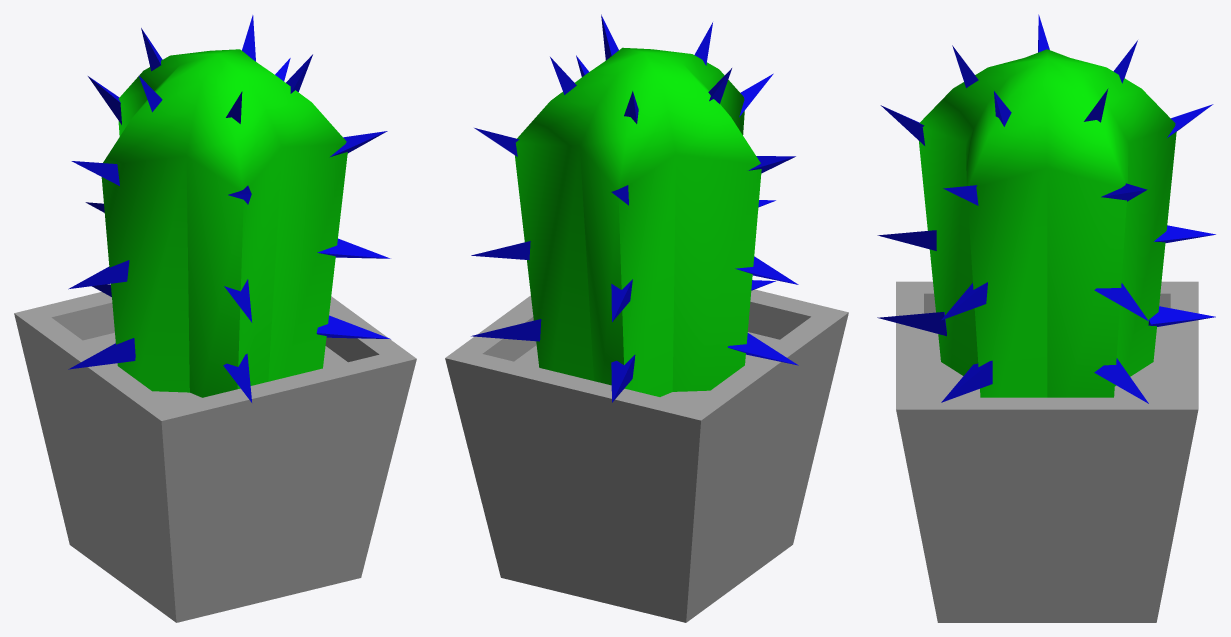
Rendered from cactus.fbx.
The picture shows the model from 3 angles, left to right: view 1: azimuth 30°, elevation 25°; view 2: azimuth 150°, elevation 25°; view 3: azimuth 270°, elevation 25°; orthographic projection. The views are drawn at different scales.
Parts seen in each view (by area): view 1: cactus; view 2: cactus; view 3: cactus.
Part boxes in pixels (<box>): cactus: <box>14,15,416,622</box>; cactus: <box>445,14,848,622</box>; cactus: <box>877,14,1215,622</box>.
Bounding box in the file's own units: 76.62 × 134 × 79.28.
